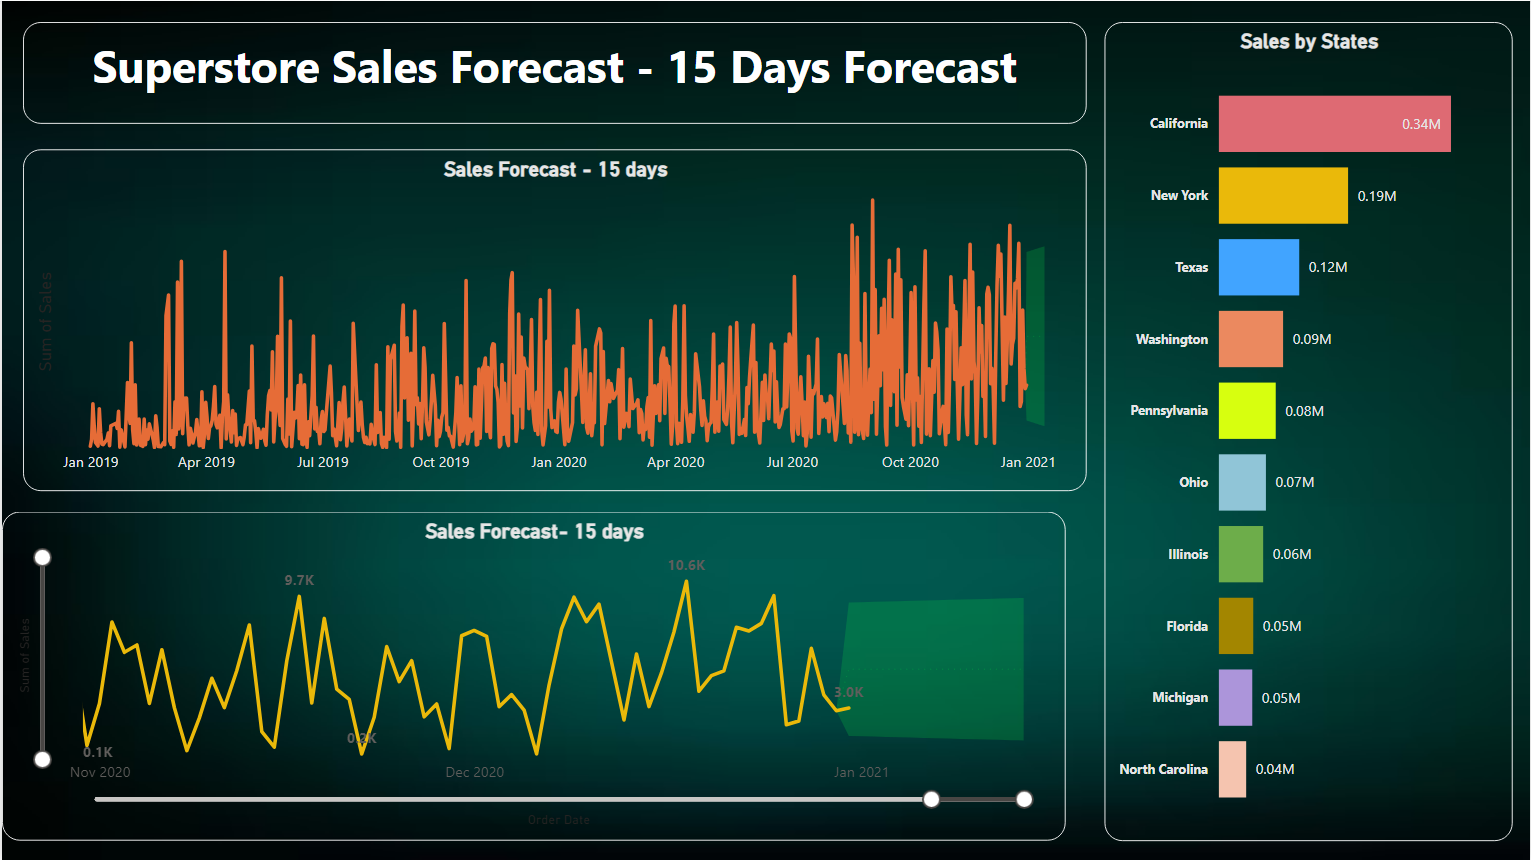

Layout of this report page (visuals, bound fields, positions):
{"tool":"powerbi","page":{"name":"Page 2","canvas":[1280,720],"ordinal":1},"visuals":[{"type":"lineChart","title":"Sales Forecast - 15 days","fields":{"Y":["Sum(SuperStore_Sales_Dataset.Sales)"],"Category":["SuperStore_Sales_Dataset.Order Date"]},"box":[17.1,124,891.4,286.4],"z":0},{"type":"lineChart","title":"Sales Forecast- 15 days","fields":{"Y":["Sum(SuperStore_Sales_Dataset.Sales)"],"Category":["SuperStore_Sales_Dataset.Order Date"]},"box":[0,427.3,891.4,275.4],"z":1000},{"type":"textbox","box":[17.1,17.1,891.4,85.5],"z":2000},{"type":"clusteredBarChart","title":"Sales by States","fields":{"Y":["Sum(SuperStore_Sales_Dataset.Sales)"],"Category":["SuperStore_Sales_Dataset.State"]},"box":[923.5,17.1,342,686.2],"z":3000}]}

Visuals, with their boxes in screenshot pixels (x1, y1, x2, y2), scaled from the page's 1280x720 canvas onto the 1531x860 screenshot:
"Sales Forecast - 15 days" lineChart: 20/148/1087/490
"Sales Forecast- 15 days" lineChart: 0/510/1066/839
textbox: 20/20/1087/123
"Sales by States" clusteredBarChart: 1105/20/1514/840
